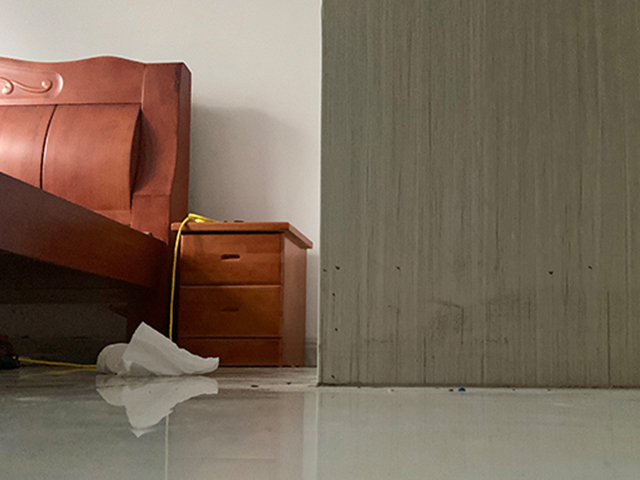bed: (1, 53, 192, 340)
cabinet: (169, 220, 314, 369)
wire: (12, 211, 210, 369)
